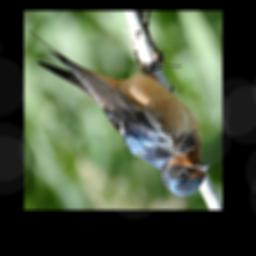Swallow: (26, 27, 212, 197)
